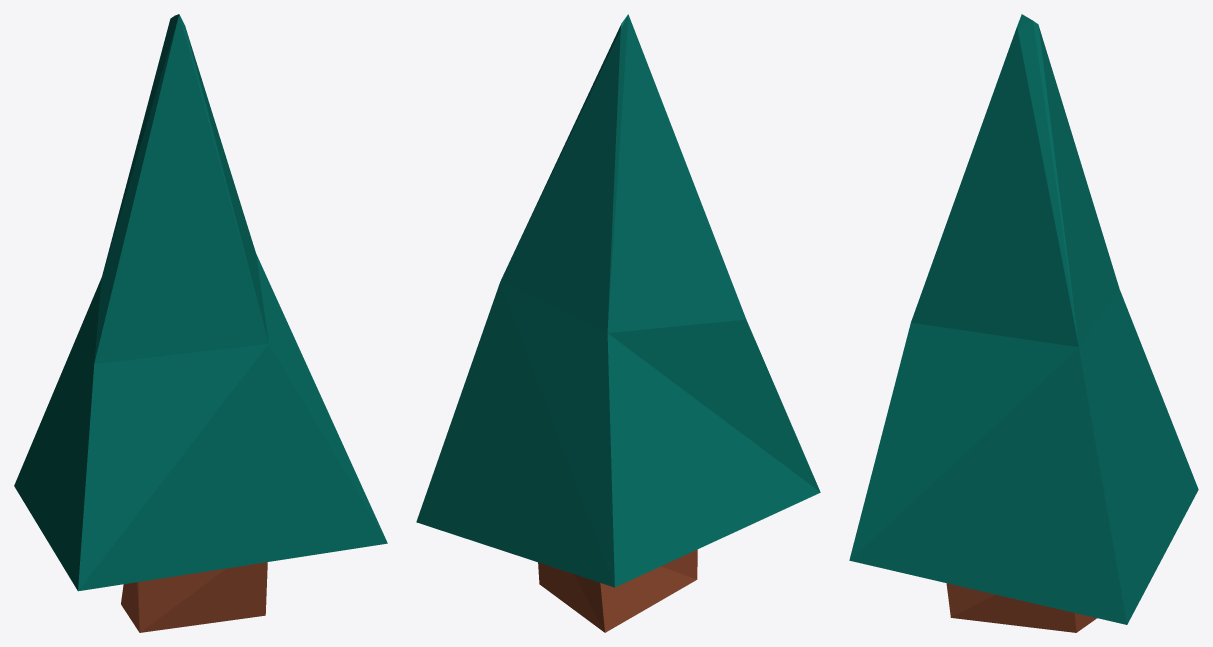
File: tree1.fbx
3 views of the same model, side by side, from view 1: azimuth 30°, elevation 25°; view 2: azimuth 150°, elevation 25°; view 3: azimuth 270°, elevation 25° (orthographic). The views are drawn at different scales.
Visible parts, largest first — view 1: Cube.014; view 2: Cube.014; view 3: Cube.014.
Boxes of the visible parts, x1,y1,x2,y2 form: Cube.014: (14, 14, 387, 632); Cube.014: (416, 14, 820, 632); Cube.014: (849, 14, 1198, 632).
Bounding box in the file's own units: 123 × 226 × 118.
